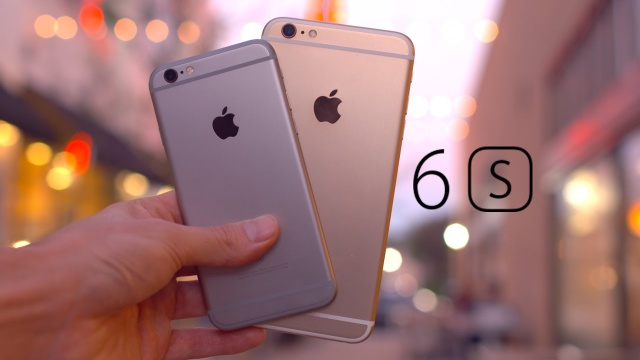apple: (307, 85, 361, 124), (207, 94, 249, 140)
